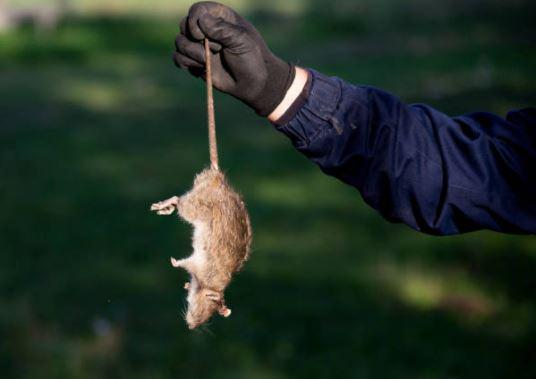rat: (150, 36, 252, 330)
